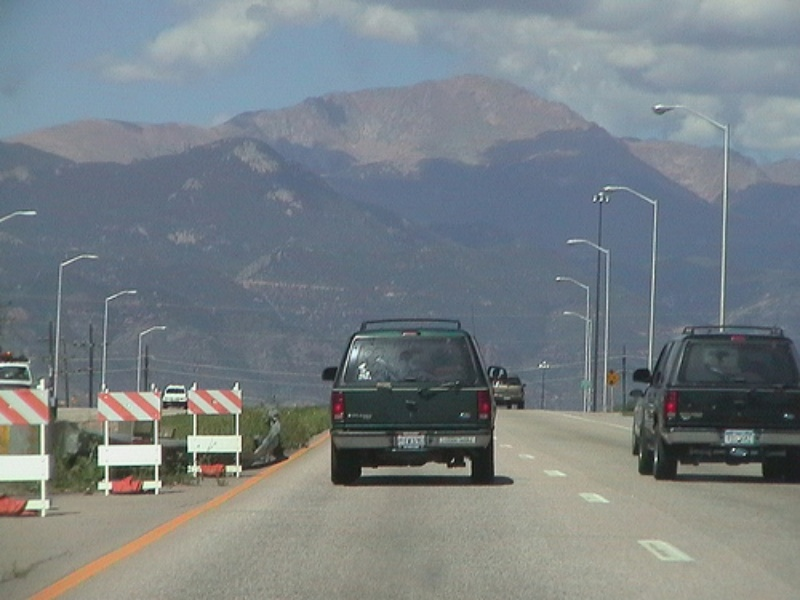car: (323, 318, 496, 485), (632, 324, 800, 477), (493, 372, 526, 411), (163, 384, 187, 408)
